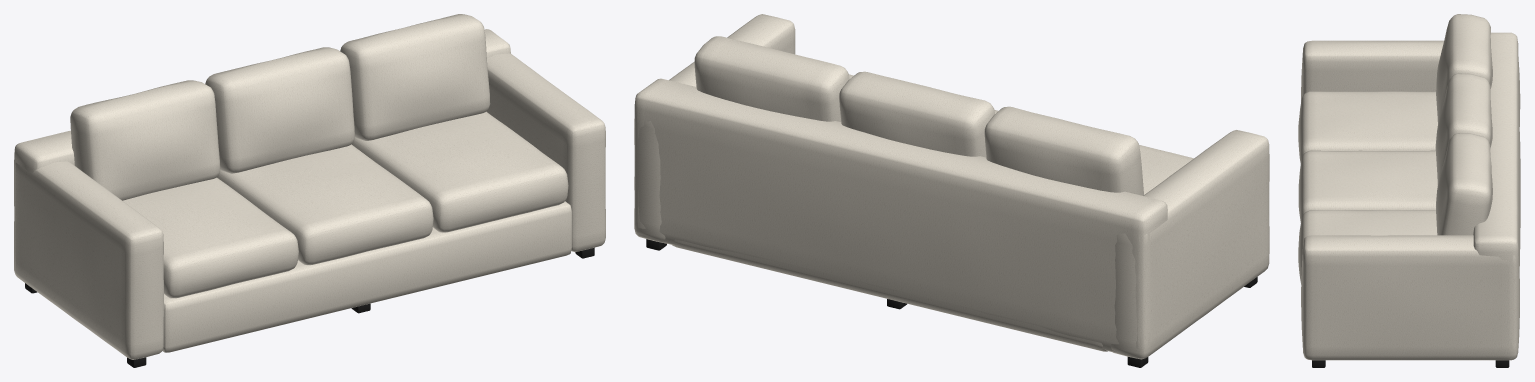
File: sofa_moderno_3p_boucle.glb
3 renders of one model, left to right at view 1: azimuth 30°, elevation 25°; view 2: azimuth 150°, elevation 25°; view 3: azimuth 270°, elevation 25°, orthographic. The views are drawn at different scales.
Parts seen in each view (by area): view 1: sofa_moderno_3p_boucle; view 2: sofa_moderno_3p_boucle; view 3: sofa_moderno_3p_boucle.
Part boxes in pixels (left/top/right/bottom): sofa_moderno_3p_boucle: left=14, top=14, right=605, bottom=367; sofa_moderno_3p_boucle: left=634, top=14, right=1269, bottom=367; sofa_moderno_3p_boucle: left=1298, top=14, right=1520, bottom=367.
Bounding box in the file's own units: 2.21 × 0.8267 × 0.9809.
2 materials, 1 textured.
